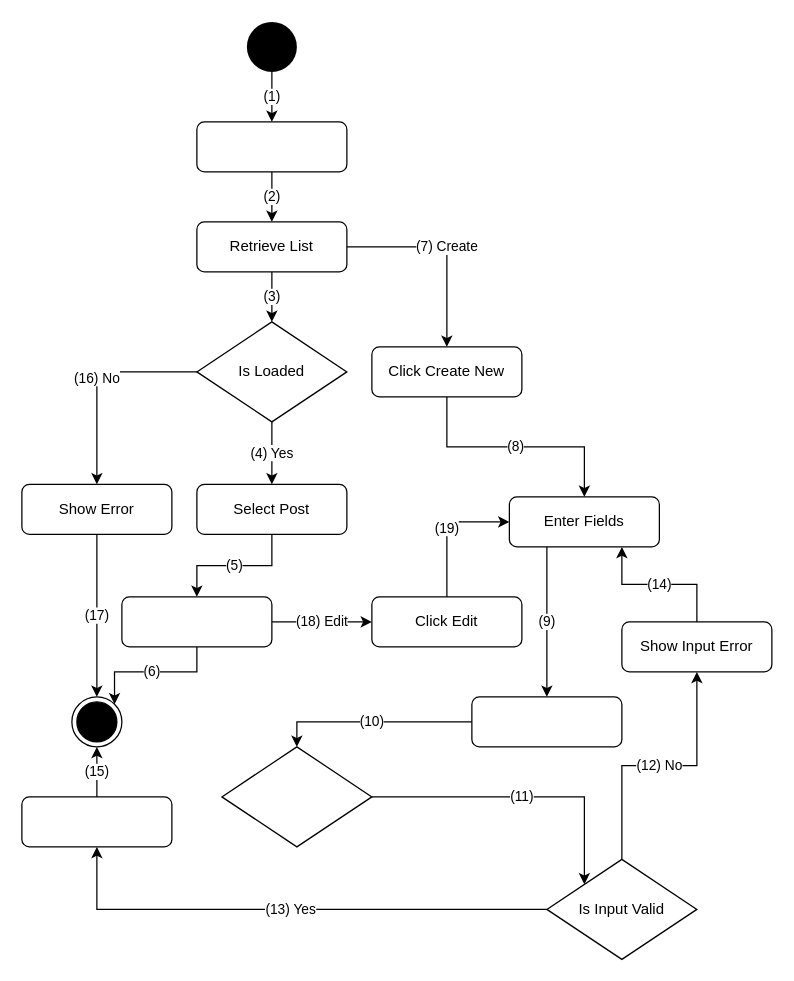
Image size: 794x981. Some labels were removed from this diagram. The shapes that lost their labels are listed below. From the top down, each one's centre as x and y in pixels, then its label:
the point at 271,146: Click Menu
the point at 196,621: Display Details
the point at 546,721: Submit Input
the point at 296,796: Validate Input
the point at 96,821: Save To DB
